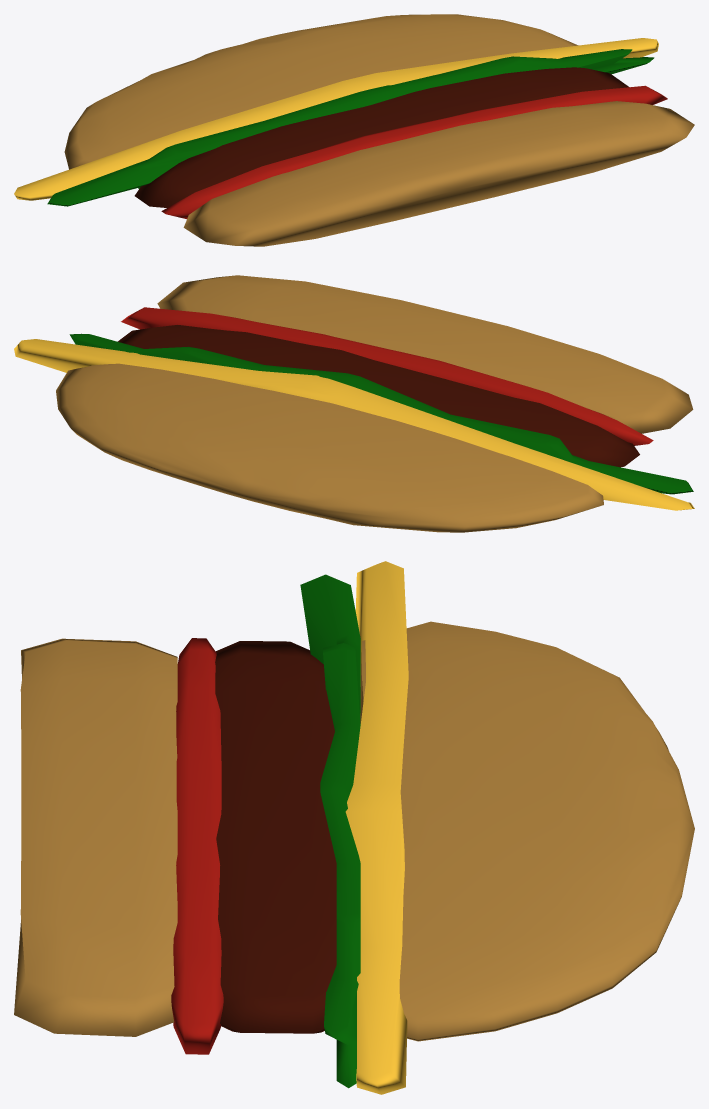
File: HamburgerBent.fbx
3 views of the same model, one above another, from view 1: azimuth 30°, elevation 25°; view 2: azimuth 150°, elevation 25°; view 3: azimuth 270°, elevation 25° (orthographic). The views are drawn at different scales.
Visible parts, largest first — view 1: Hamburger; view 2: Hamburger; view 3: Hamburger.
Boxes of the visible parts, box(x1,y1,x2,y2) form: Hamburger: box(14, 14, 694, 246); Hamburger: box(14, 275, 694, 532); Hamburger: box(14, 561, 694, 1094).
Bounding box in the file's own units: 5226 × 516 × 2874.
